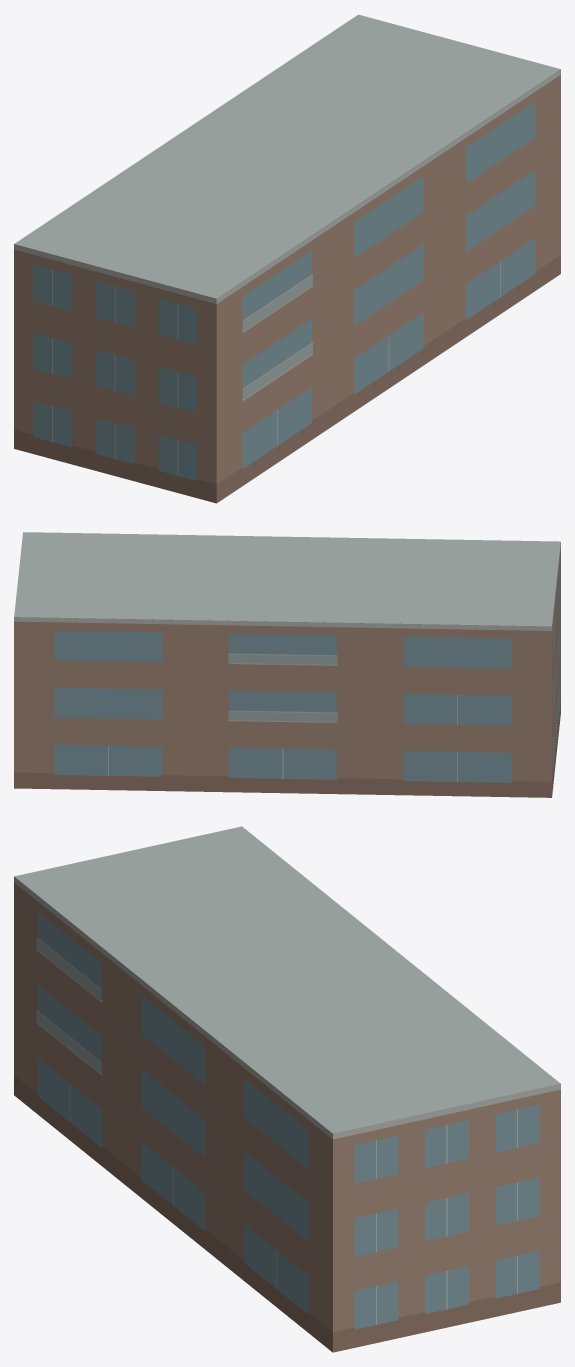
The model's file is survey-upis-32830677.glb.
3 renders of one model, top to bottom at view 1: azimuth 30°, elevation 25°; view 2: azimuth 150°, elevation 25°; view 3: azimuth 270°, elevation 25°, orthographic. The views are drawn at different scales.
Parts seen in each view (by area): view 1: survey-upis-32830677.tmp; view 2: survey-upis-32830677.tmp; view 3: survey-upis-32830677.tmp.
Part boxes in pixels (box(x1,y1,x2,y2)): survey-upis-32830677.tmp: box(14, 14, 560, 503); survey-upis-32830677.tmp: box(14, 532, 560, 797); survey-upis-32830677.tmp: box(14, 826, 560, 1352).
Size of the model in its own units: 27.57 by 9.15 by 20.72.
